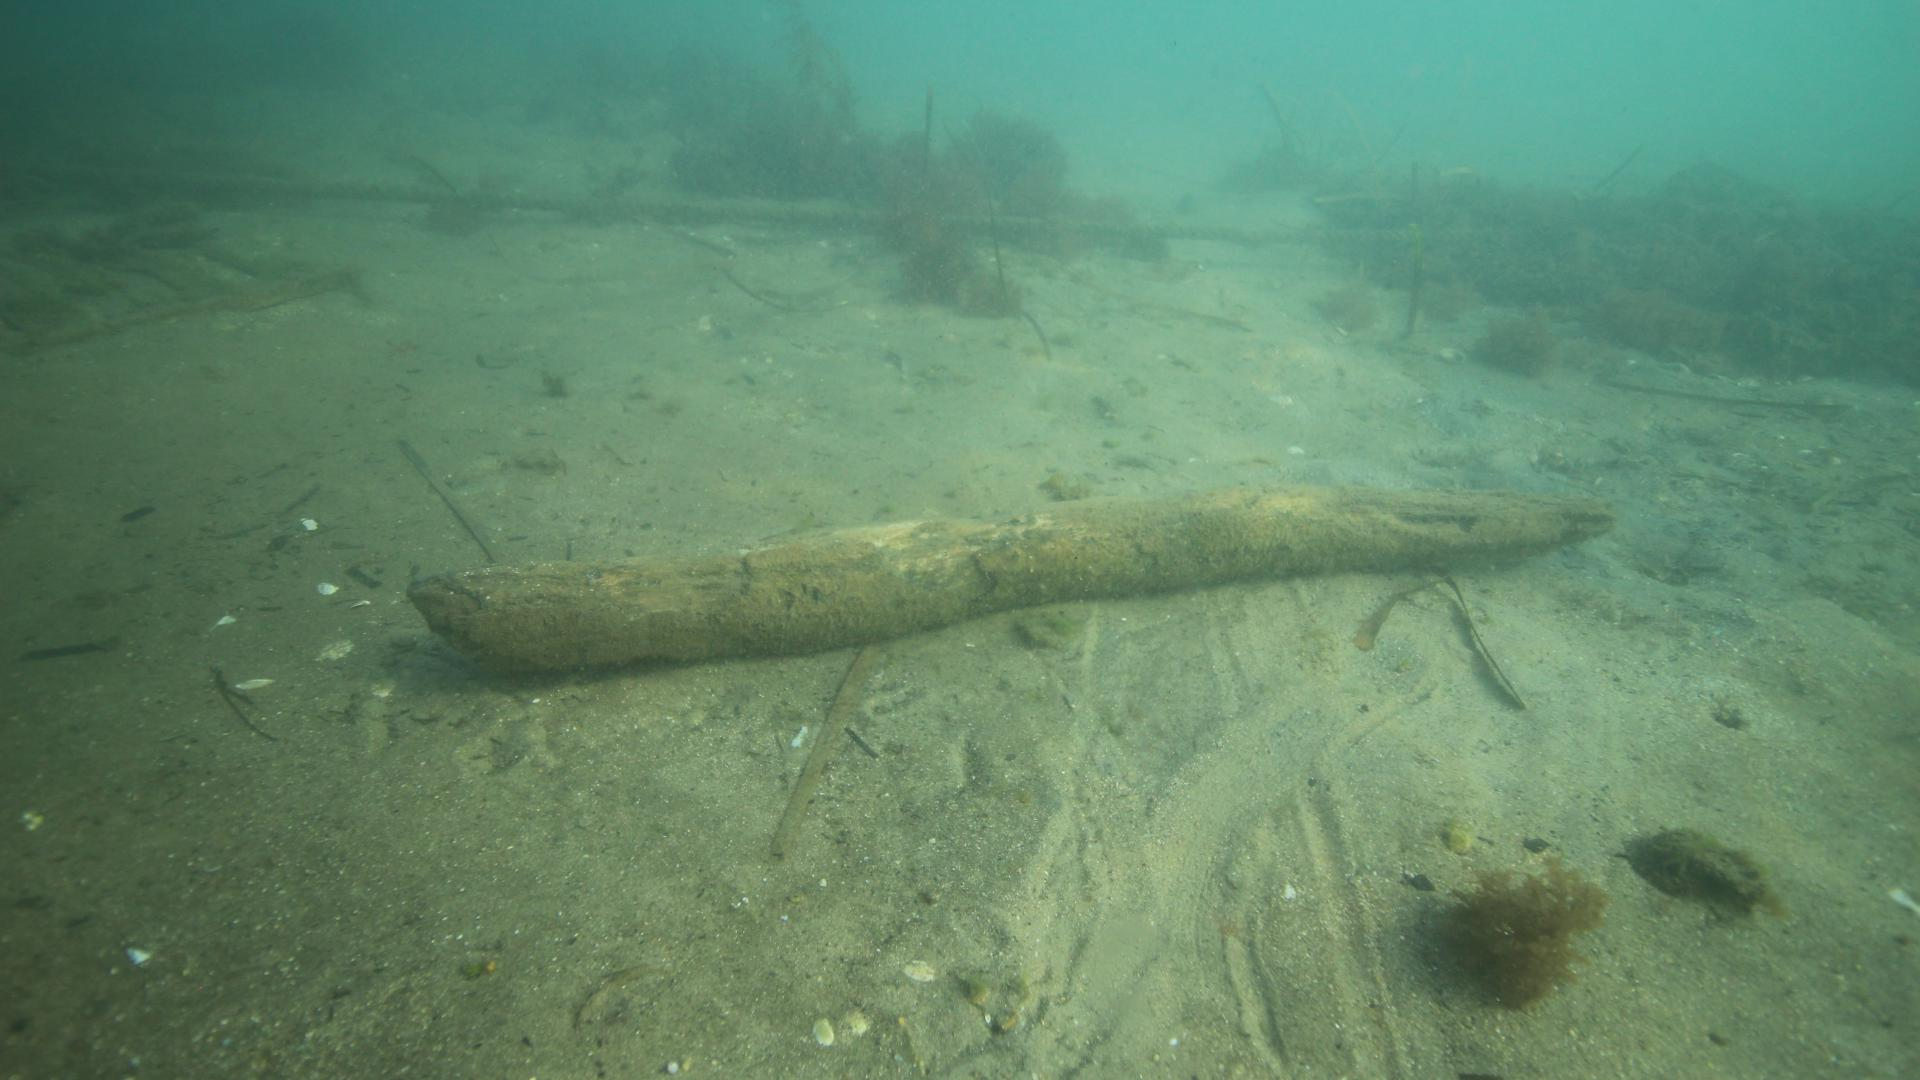wood: (404, 484, 1611, 671)
